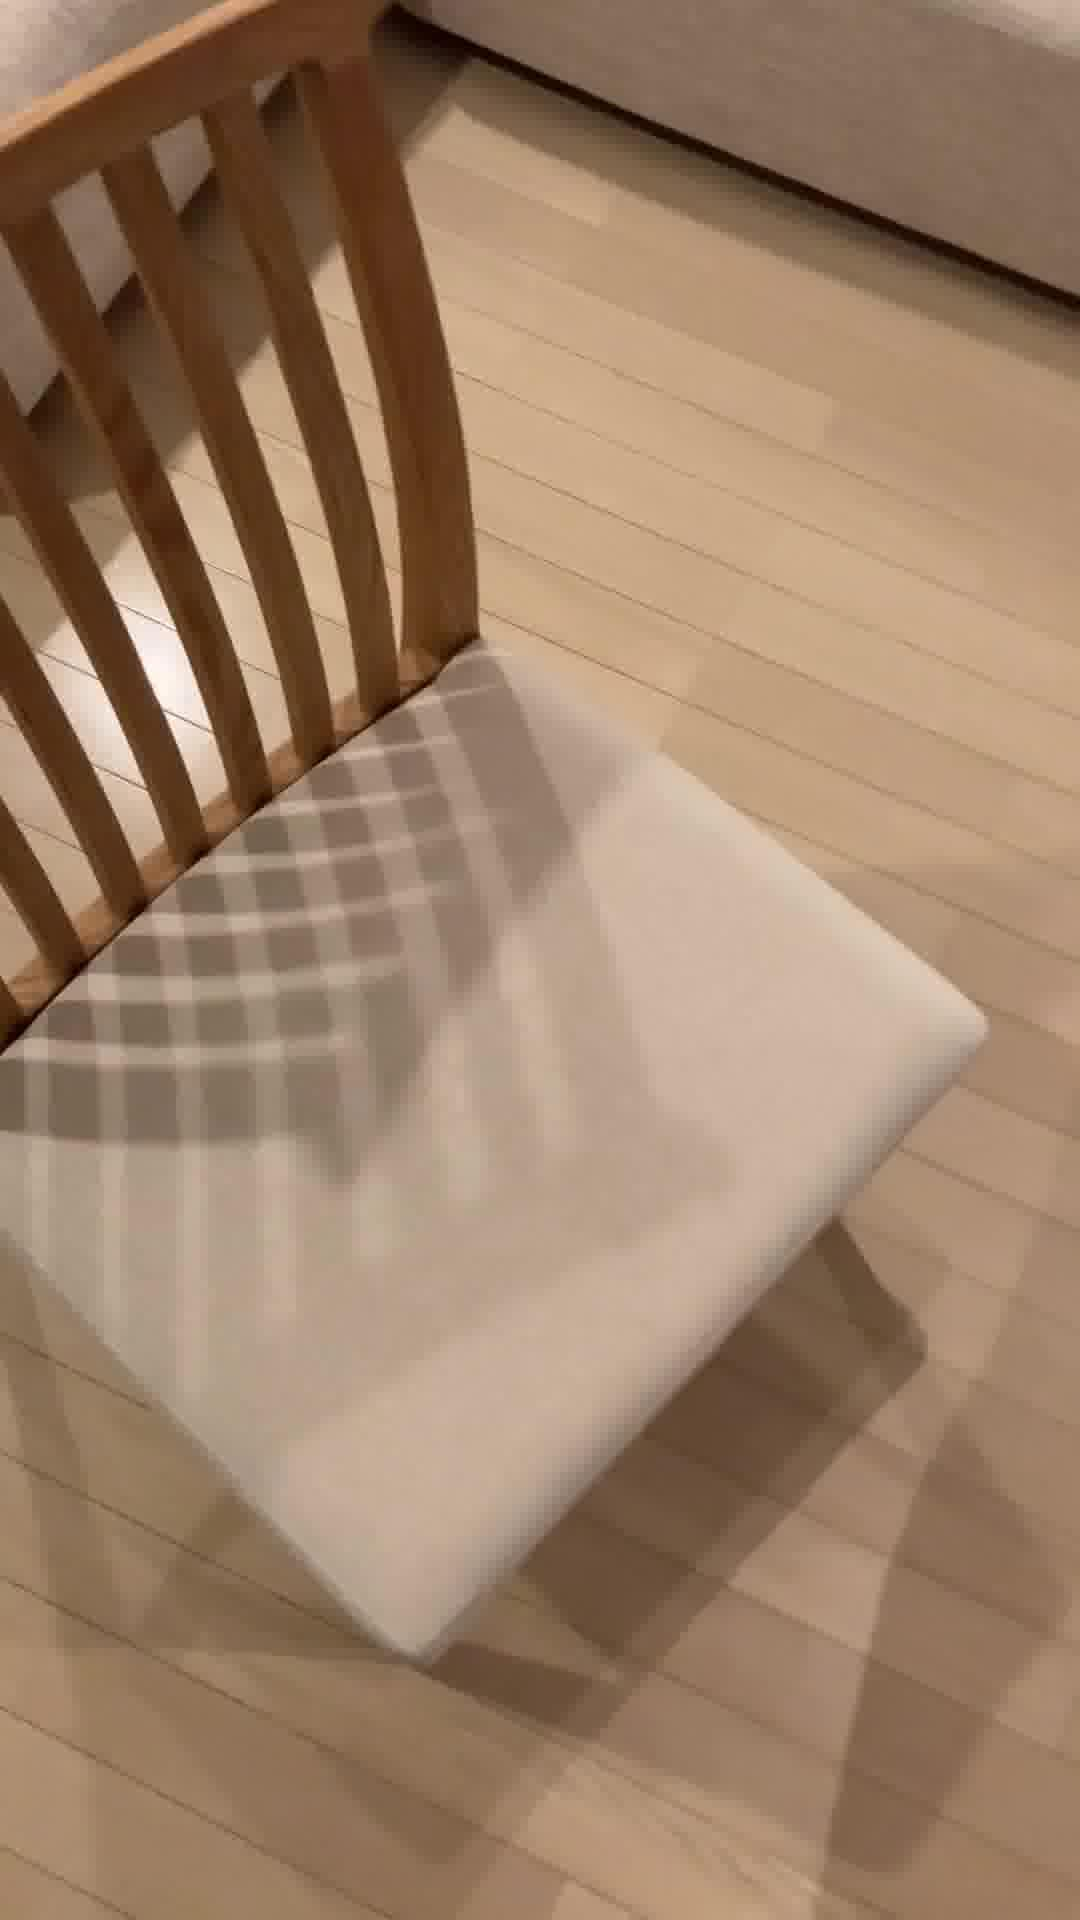takumikan-chair: (0, 0, 993, 1675)
